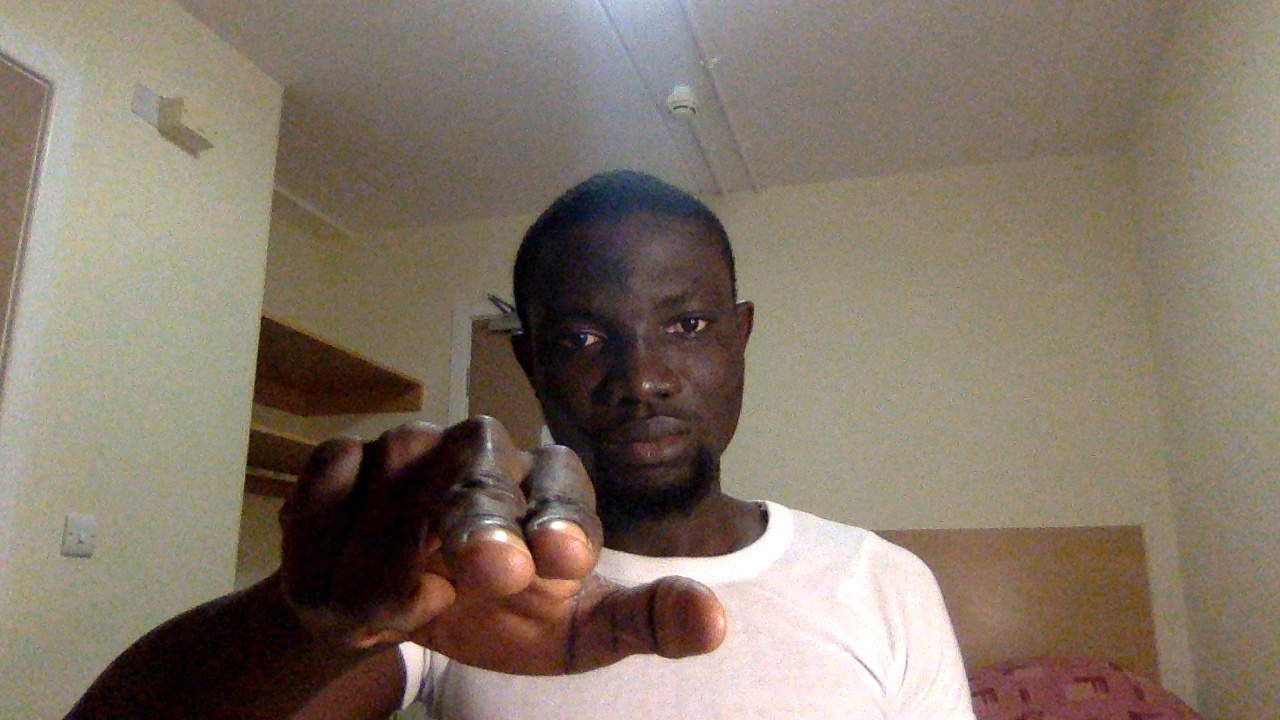No: (277, 410, 740, 711)
